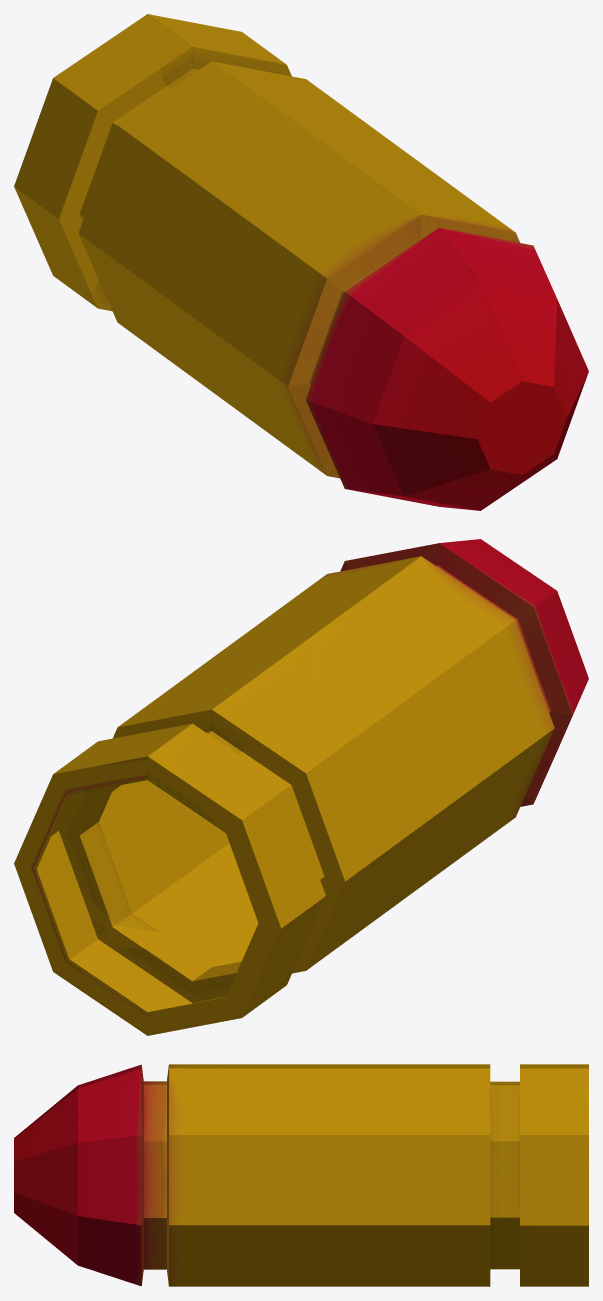
The model's file is Bullet.fbx.
The picture shows the model from 3 angles, top to bottom: view 1: azimuth 30°, elevation 25°; view 2: azimuth 150°, elevation 25°; view 3: azimuth 270°, elevation 25°; orthographic projection. The views are drawn at different scales.
Parts seen in each view (by area): view 1: Circle; view 2: Circle; view 3: Circle.
Boxes of the visible parts, x1=… form: Circle: x1=14, y1=14, x2=588, y2=510; Circle: x1=14, y1=539, x2=588, y2=1035; Circle: x1=14, y1=1064, x2=588, y2=1286.
Bounding box in the file's own units: 4.11 × 4.11 × 10.
